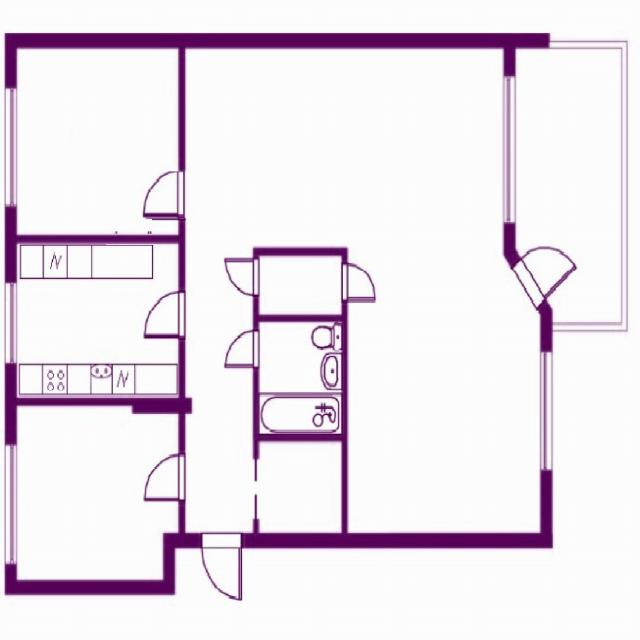door: (513, 230, 578, 307), (202, 533, 242, 594), (140, 291, 185, 338), (140, 171, 185, 218), (142, 454, 185, 500), (342, 263, 380, 301), (222, 258, 260, 295), (223, 330, 259, 367)
